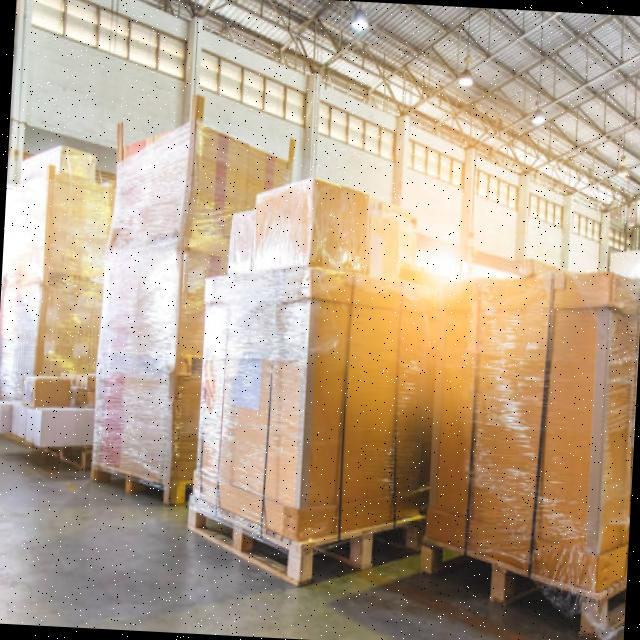Wooden-Pallets: (183, 499, 412, 597), (419, 538, 619, 640)
